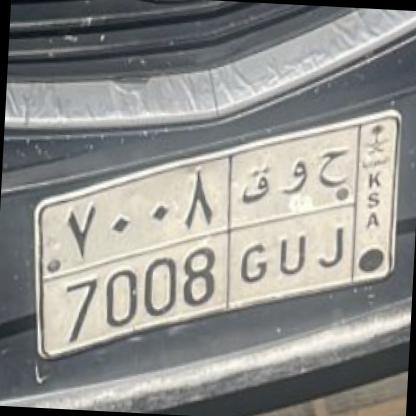english: (26, 220, 346, 346)
